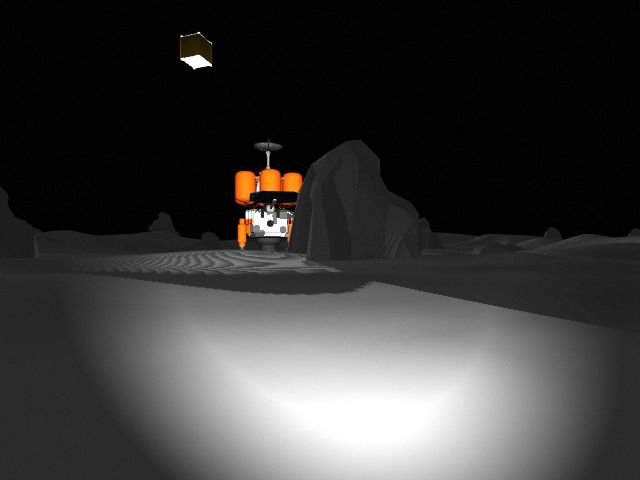cubesat: (170, 25, 217, 75)
